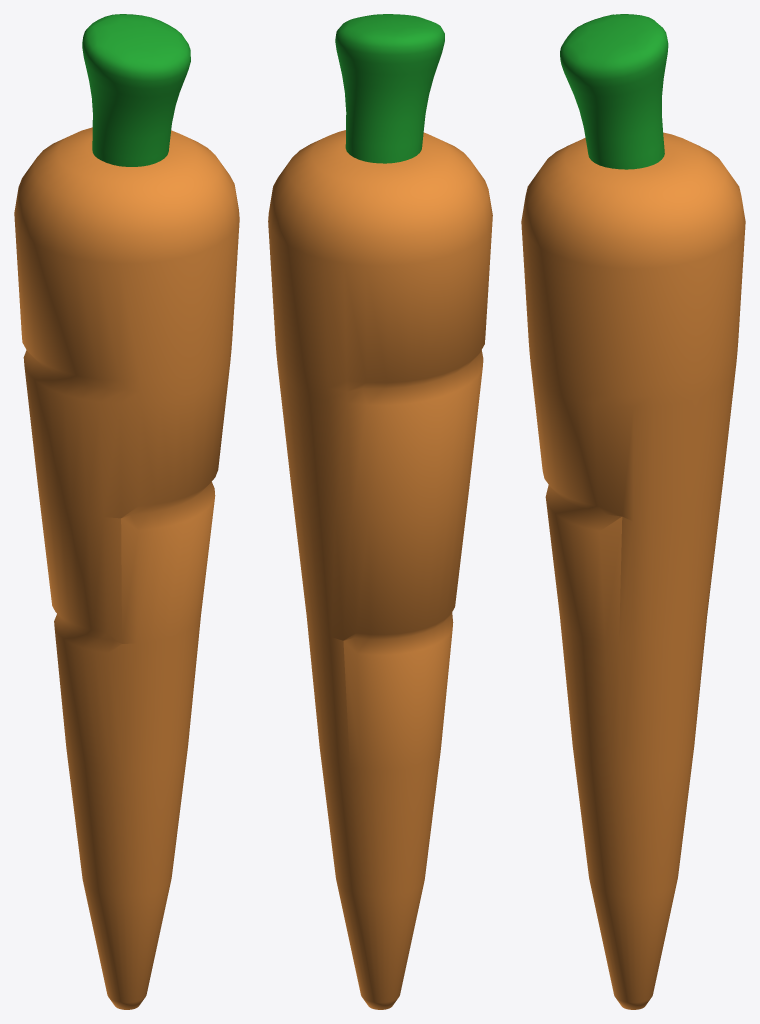
File: carrot.fbx
3 renders of one model, left to right at view 1: azimuth 30°, elevation 25°; view 2: azimuth 150°, elevation 25°; view 3: azimuth 270°, elevation 25°, orthographic.
Visible parts, largest first — view 1: Carrot; view 2: Carrot; view 3: Carrot.
Part boxes in pixels (<box>): Carrot: <box>14,14,239,1009</box>; Carrot: <box>268,14,492,1009</box>; Carrot: <box>521,14,745,1009</box>.
Size of the model in its own units: 57.13 by 275 by 57.13.
